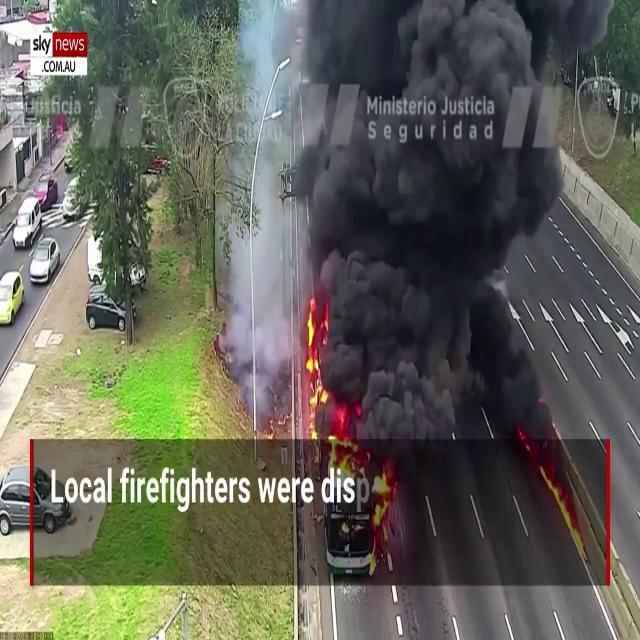Fire: (298, 298, 336, 438)
Smoke: (224, 0, 558, 426), (222, 18, 302, 406)
